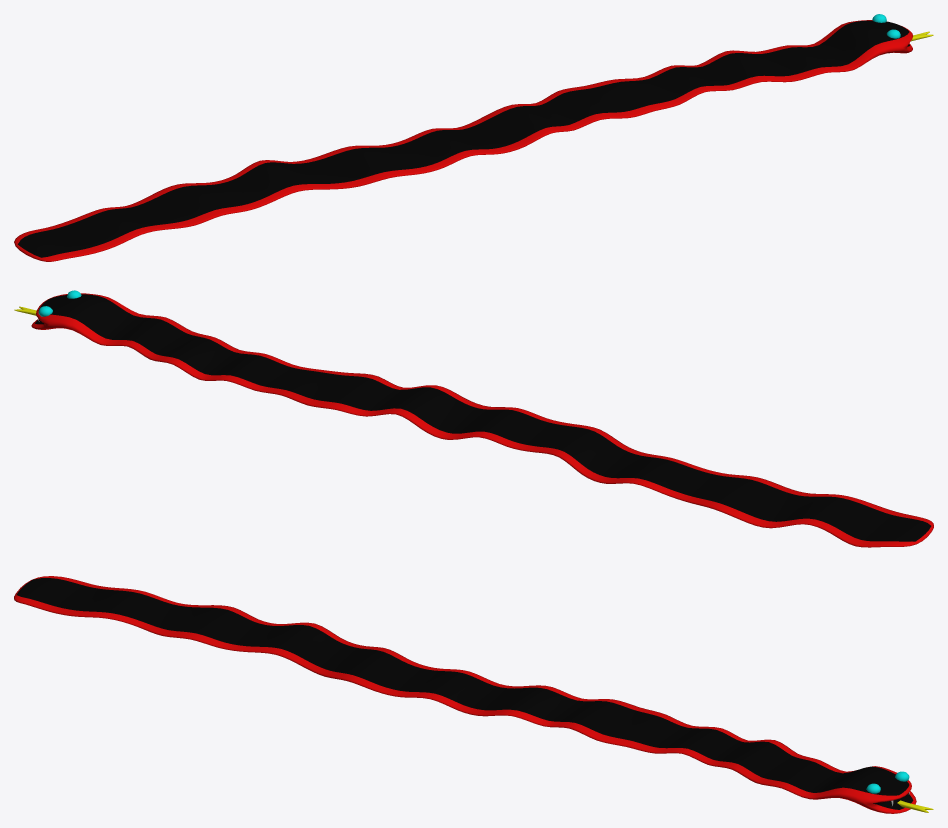
Rendered from SnakonStrip.fbx.
3 views of the same model, one above another, from view 1: azimuth 30°, elevation 25°; view 2: azimuth 150°, elevation 25°; view 3: azimuth 330°, elevation 25° (orthographic).
Parts seen in each view (by area): view 1: SnakonStrip; view 2: SnakonStrip; view 3: SnakonStrip.
Part boxes in pixels (left/top/right/bottom): SnakonStrip: left=14, top=14, right=933, bottom=261; SnakonStrip: left=14, top=290, right=933, bottom=547; SnakonStrip: left=14, top=576, right=933, bottom=813.
Size of the model in its own units: 12.11 by 0.3678 by 1.26.
